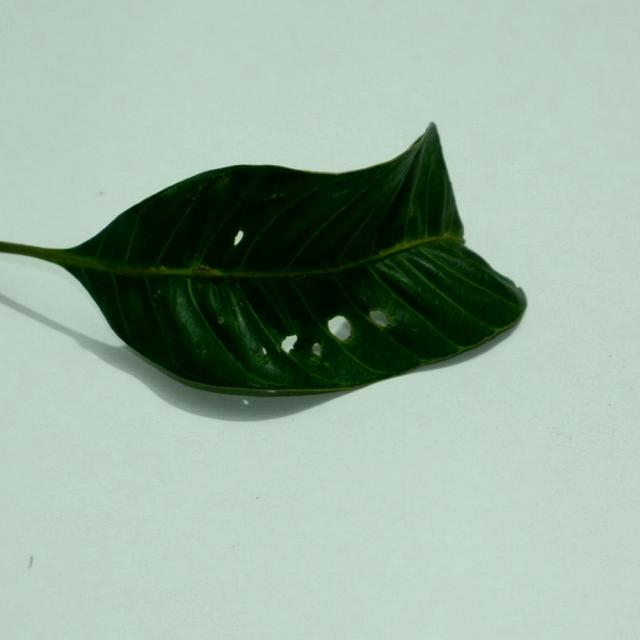Anthracnose: (325, 315, 351, 340), (279, 335, 301, 356), (371, 311, 392, 327), (232, 230, 245, 246), (311, 342, 322, 355), (241, 398, 249, 405)
Mango: (0, 126, 528, 400)
